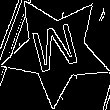M_S: (28, 20, 84, 81)
